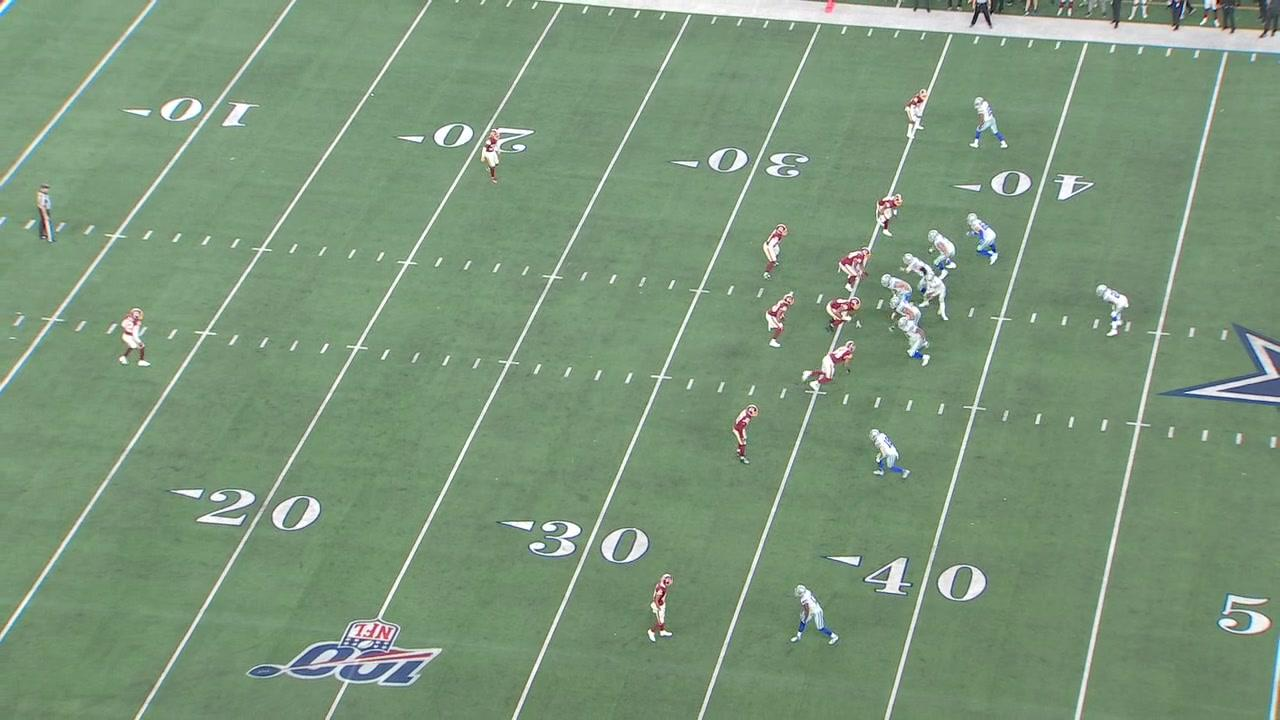player: (789, 583, 839, 646), (801, 340, 858, 393), (112, 305, 151, 371), (867, 427, 912, 481), (969, 95, 1009, 150), (889, 317, 932, 368), (646, 571, 675, 645), (1094, 282, 1130, 339), (965, 211, 1001, 266), (759, 221, 790, 283), (764, 292, 797, 350), (925, 228, 959, 281), (731, 403, 759, 466), (837, 245, 872, 293), (918, 273, 950, 323), (478, 126, 504, 186), (824, 295, 864, 333), (874, 192, 905, 238), (903, 88, 930, 140), (900, 252, 933, 294), (887, 297, 923, 330), (878, 272, 913, 303)
ref: (30, 181, 61, 245)
